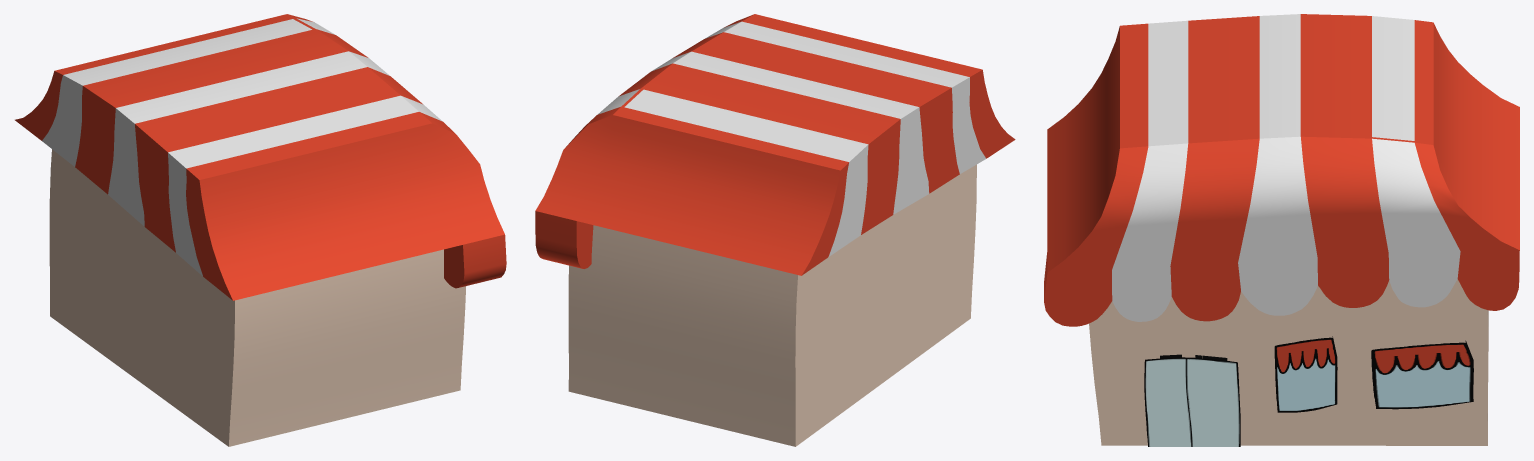
The model's file is Building 4.fbx.
The picture shows the model from 3 angles, left to right: view 1: azimuth 30°, elevation 25°; view 2: azimuth 150°, elevation 25°; view 3: azimuth 270°, elevation 25°; orthographic projection. The views are drawn at different scales.
Visible parts, largest first — view 1: Roof, Building 3; view 2: Roof, Building 3; view 3: Roof, Building 3, Plane, Plane.001, Plane.002.
Boxes of the visible parts, left/top/right/bottom form: Roof: left=15, top=14, right=506, bottom=300; Building 3: left=49, top=149, right=466, bottom=446; Roof: left=535, top=14, right=1015, bottom=275; Building 3: left=568, top=164, right=976, bottom=446; Roof: left=1044, top=14, right=1519, bottom=326; Building 3: left=1089, top=279, right=1488, bottom=445; Plane: left=1144, top=354, right=1240, bottom=446; Plane.001: left=1371, top=340, right=1473, bottom=409; Plane.002: left=1274, top=336, right=1337, bottom=412.
Bounding box in the file's own units: 235 × 228 × 329.
